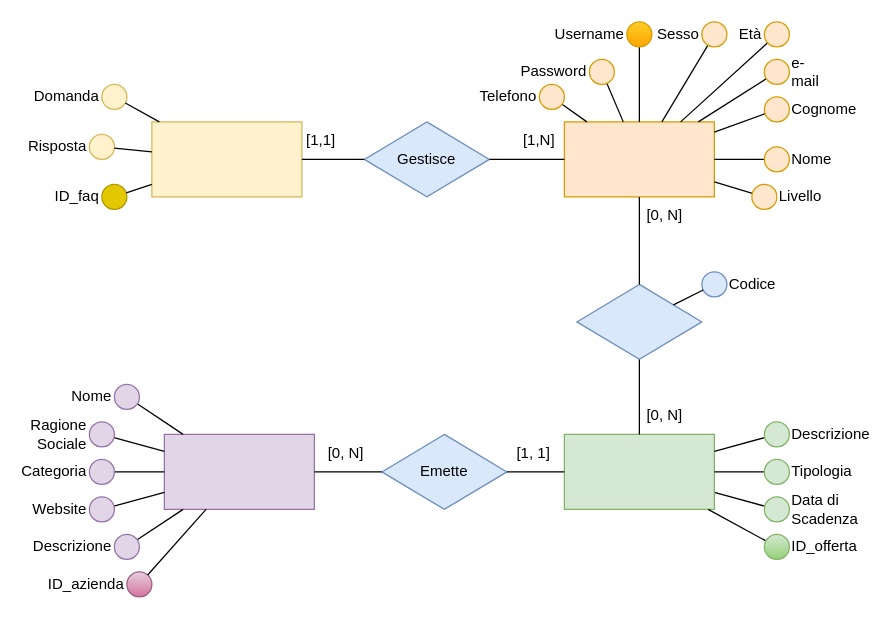
This 891x619 diagram has some shape labels left out. Here are the shapes that lost their labels. From the top down, the box of each, then its label:
(151, 121, 302, 197): FAQ
(563, 121, 714, 197): Utente
(576, 283, 702, 359): Acquisisce Coupon
(163, 433, 314, 509): Azienda
(563, 433, 714, 509): Offerta
